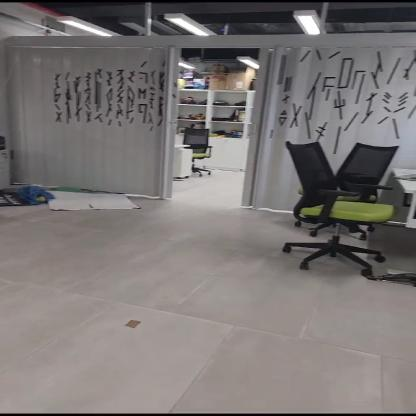open: (157, 48, 268, 199)
